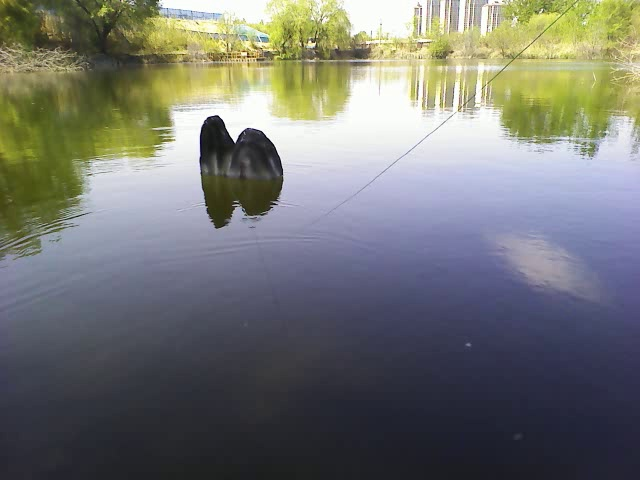rock: (199, 117, 286, 181)
